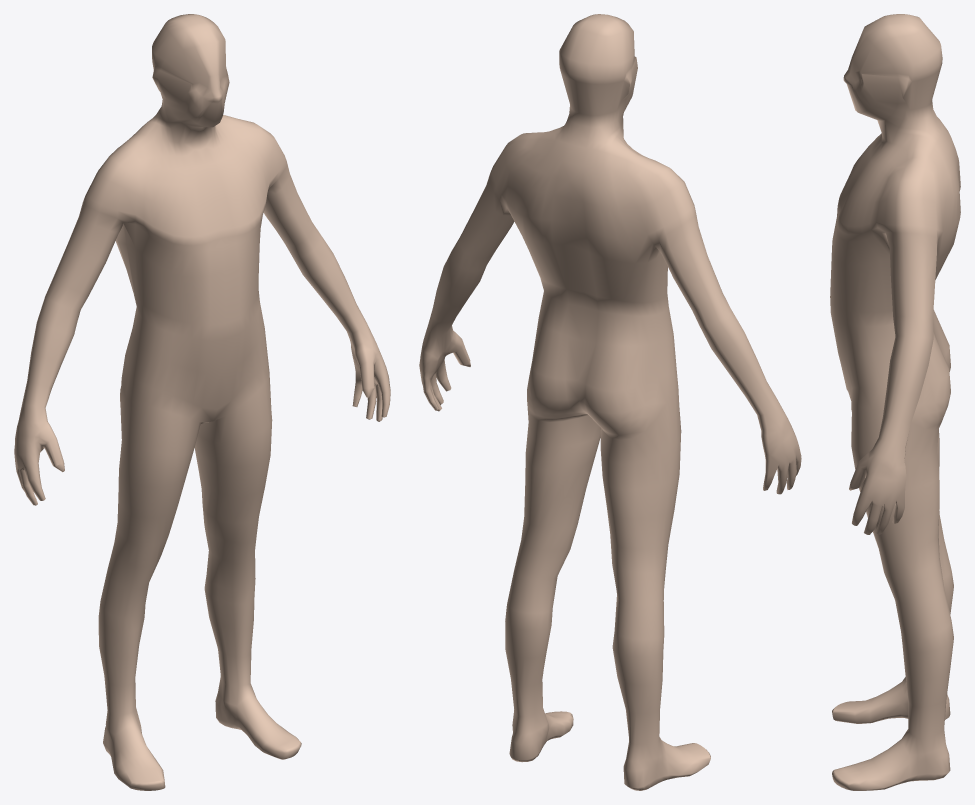
The model's file is size-ref.fbx.
3 renders of one model, left to right at view 1: azimuth 30°, elevation 25°; view 2: azimuth 150°, elevation 25°; view 3: azimuth 270°, elevation 25°, orthographic.
Parts seen in each view (by area): view 1: man_size; view 2: man_size; view 3: man_size.
Part boxes in pixels (box(x1,y1,x2,y2)): man_size: box(14, 14, 390, 790); man_size: box(419, 14, 801, 790); man_size: box(830, 14, 960, 790).
Bounding box in the file's own units: 95.32 × 29.47 × 183.
